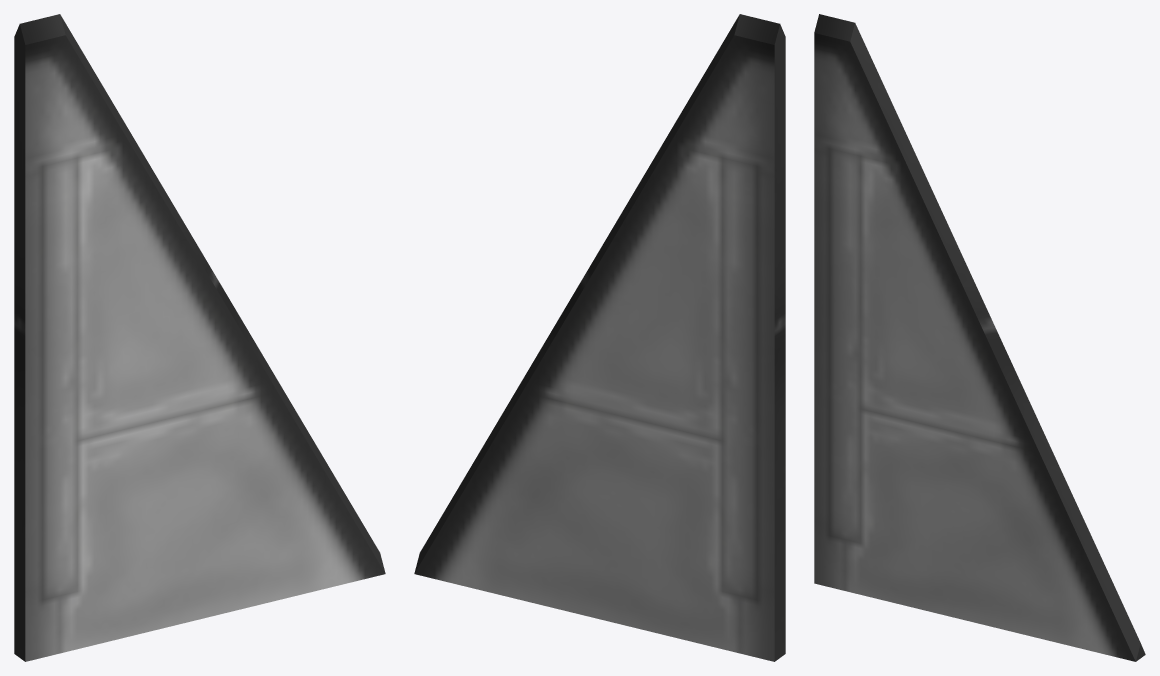
The model's file is thorFin.dae.
The picture shows the model from 3 angles, left to right: view 1: azimuth 30°, elevation 25°; view 2: azimuth 150°, elevation 25°; view 3: azimuth 330°, elevation 25°; orthographic projection. The views are drawn at different scales.
Visible parts, largest first — view 1: ThorFin; view 2: ThorFin; view 3: ThorFin.
Part boxes in pixels (<box>): ThorFin: <box>14,14,385,661</box>; ThorFin: <box>414,14,785,661</box>; ThorFin: <box>814,14,1145,661</box>.
Bounding box in the file's own units: 0.4615 × 0.776 × 0.0246.
